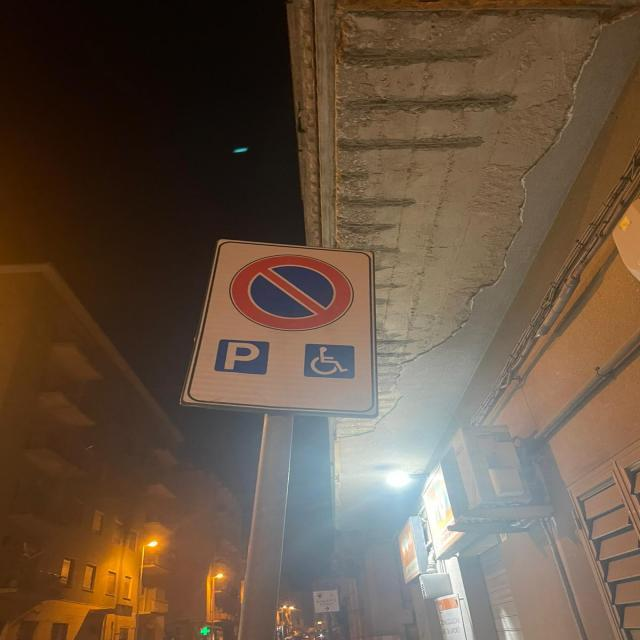forb_stopping: (228, 252, 356, 332)
